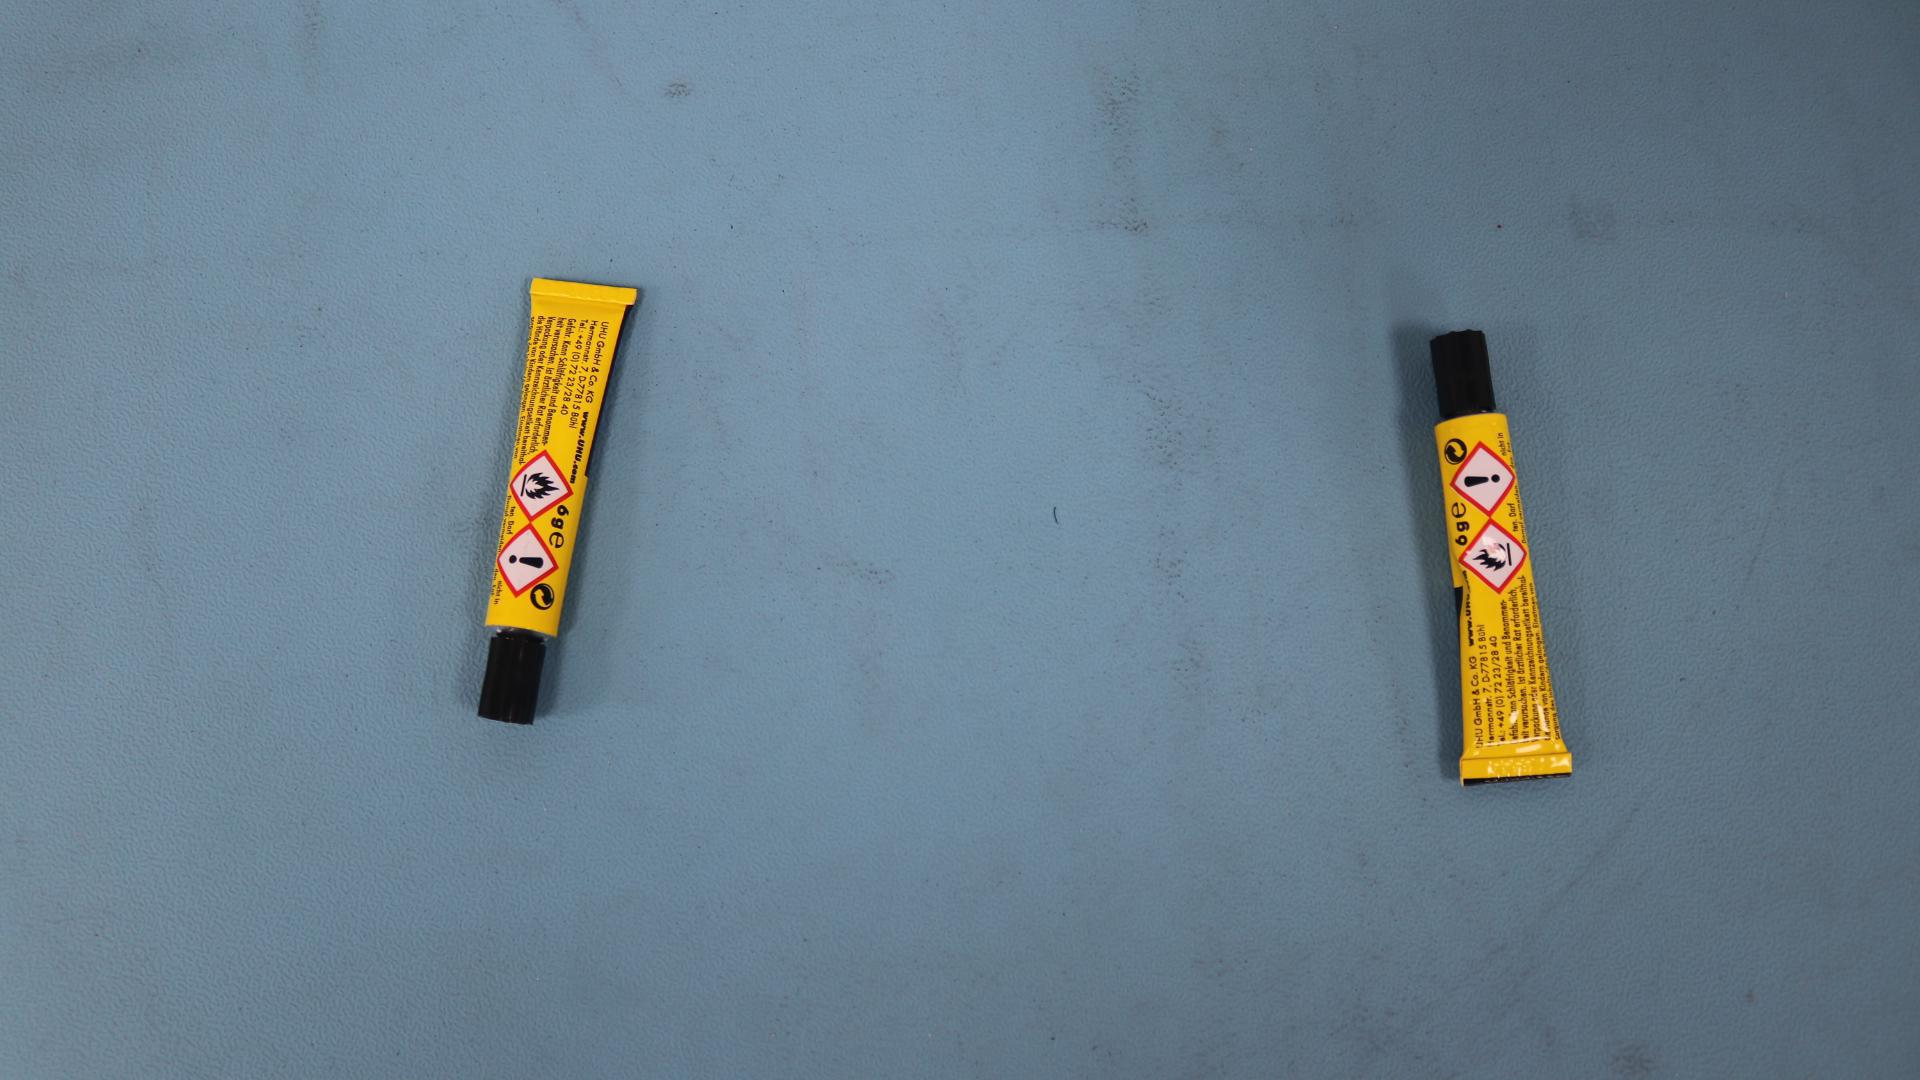Head: (508, 670, 520, 680), (1461, 367, 1468, 374)
Tail: (1508, 763, 1519, 775), (575, 285, 586, 296)
Tube: (476, 277, 641, 726), (1429, 328, 1573, 787)
